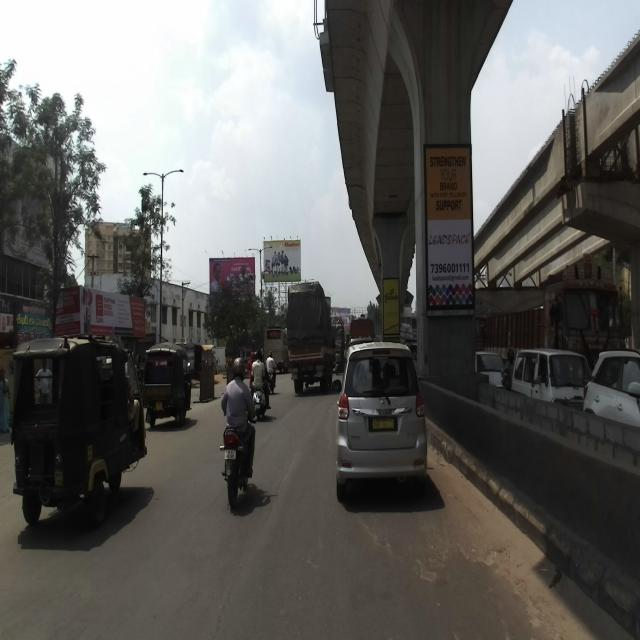autorickshaw: (9, 334, 147, 526), (142, 341, 192, 427)
car: (334, 340, 427, 504), (510, 347, 592, 410)
motorcycle: (220, 392, 262, 507)
truck: (485, 253, 628, 378)
